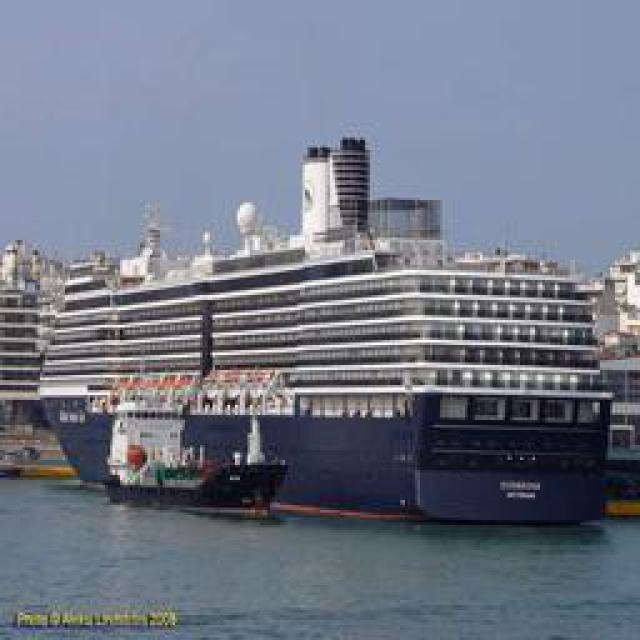Ship: (32, 130, 625, 518), (100, 407, 296, 524)
